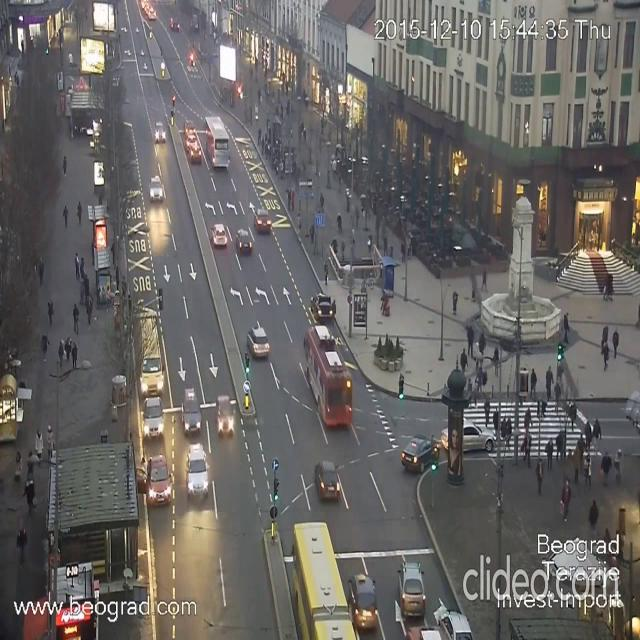bus: (291, 520, 359, 639), (303, 323, 353, 428), (138, 319, 162, 395), (204, 115, 230, 169)
car: (441, 426, 496, 461), (348, 572, 378, 628), (397, 560, 423, 617), (401, 437, 441, 471), (142, 458, 174, 500), (185, 450, 209, 496), (180, 384, 204, 430), (314, 461, 340, 502), (436, 610, 469, 640), (310, 292, 337, 326), (246, 321, 270, 359), (142, 398, 164, 439), (214, 395, 237, 432), (211, 223, 227, 246), (254, 211, 272, 230), (149, 178, 165, 196), (182, 115, 196, 133), (240, 234, 252, 254), (186, 137, 202, 151), (154, 124, 166, 140), (191, 147, 201, 166)
